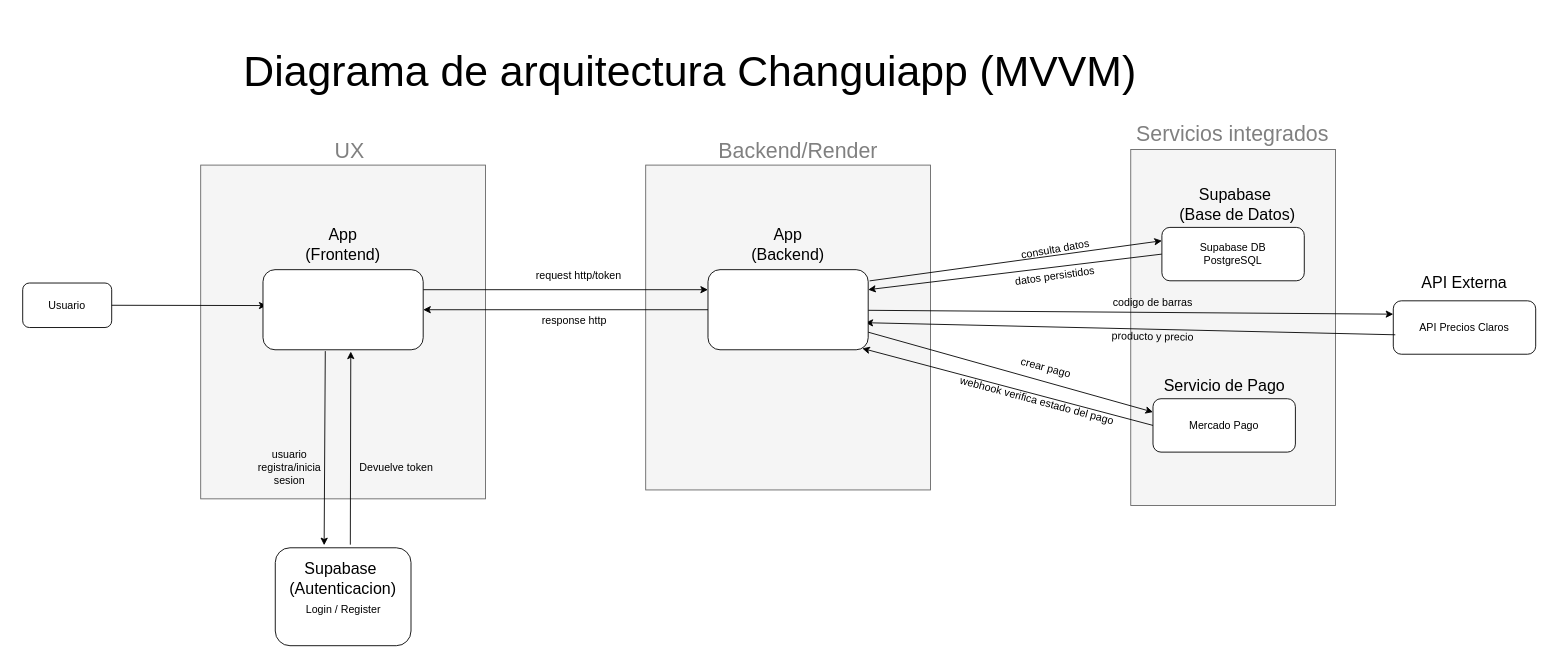
This 1551x661 diagram has some shape labels left out. Each missing label, with the centre of its shape:
App Mobile + React Native: (x=342, y=309)
Node.js + Express: (x=787, y=309)
